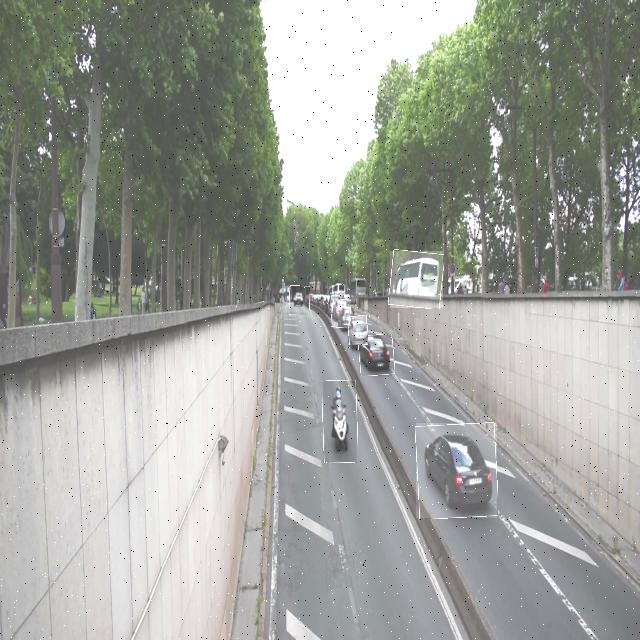Bus: (390, 251, 443, 308)
Car: (416, 423, 497, 518), (359, 334, 395, 376), (290, 286, 310, 315), (348, 316, 367, 345), (332, 299, 351, 328)
Motorcycle: (323, 381, 357, 463)
